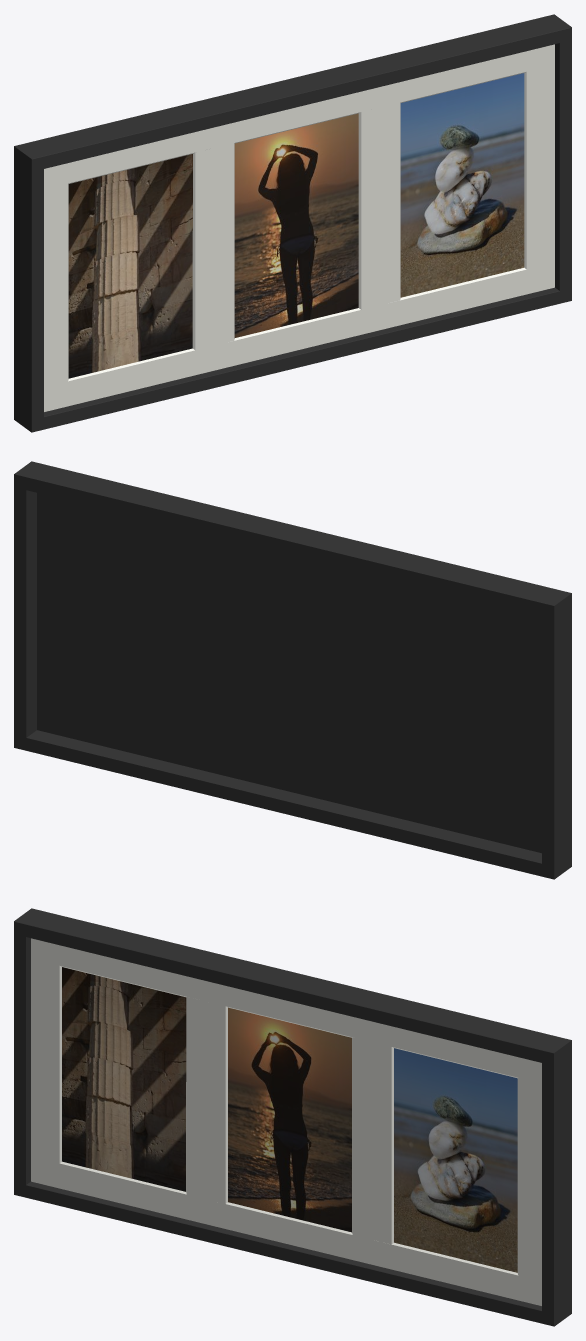
File: frame3VerticalSummerPhotos.obj
3 views of the same model, one above another, from view 1: azimuth 30°, elevation 25°; view 2: azimuth 150°, elevation 25°; view 3: azimuth 330°, elevation 25° (orthographic).
Visible parts, largest first — view 1: Inner_frame_Cube.003, Frame_Cube.001, Photo3_Plane.002, Photo1_Plane.001, Photo2_Plane; view 2: Frame_Cube.001; view 3: Inner_frame_Cube.003, Frame_Cube.001, Photo1_Plane.001, Photo3_Plane.002, Photo2_Plane.
Boxes of the visible parts, box(x1,y1,x2,y2) form: Inner_frame_Cube.003: box(44, 44, 554, 411); Frame_Cube.001: box(14, 14, 571, 432); Photo3_Plane.002: box(400, 73, 524, 297); Photo1_Plane.001: box(68, 154, 192, 378); Photo2_Plane: box(234, 113, 358, 337); Frame_Cube.001: box(14, 461, 571, 879); Inner_frame_Cube.003: box(31, 938, 541, 1305); Frame_Cube.001: box(14, 908, 571, 1326); Photo1_Plane.001: box(62, 967, 186, 1191); Photo3_Plane.002: box(394, 1048, 517, 1272); Photo2_Plane: box(228, 1007, 351, 1232).
Bounding box in the file's own units: 52.5 × 25.4 × 3.
Materials: 5 (3 with a texture image).
